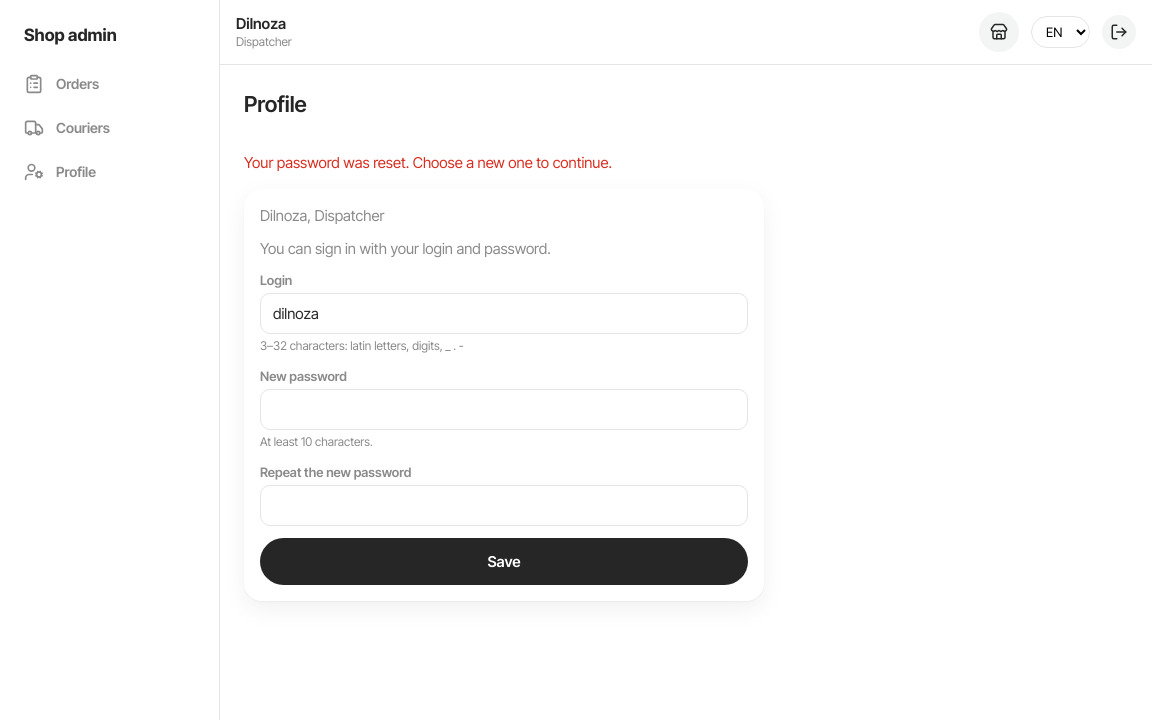
ProfileScreen › forces a new password after an owner reset and then opens the panel
This screenshot has width=1152, height=720.
Expected: the text "Your password was reset. Choose a new one to continue." is shown, [244,153,612,172]
Type "my new password" into the password field labelled "New password" at (504, 410), box [260,389,748,430]
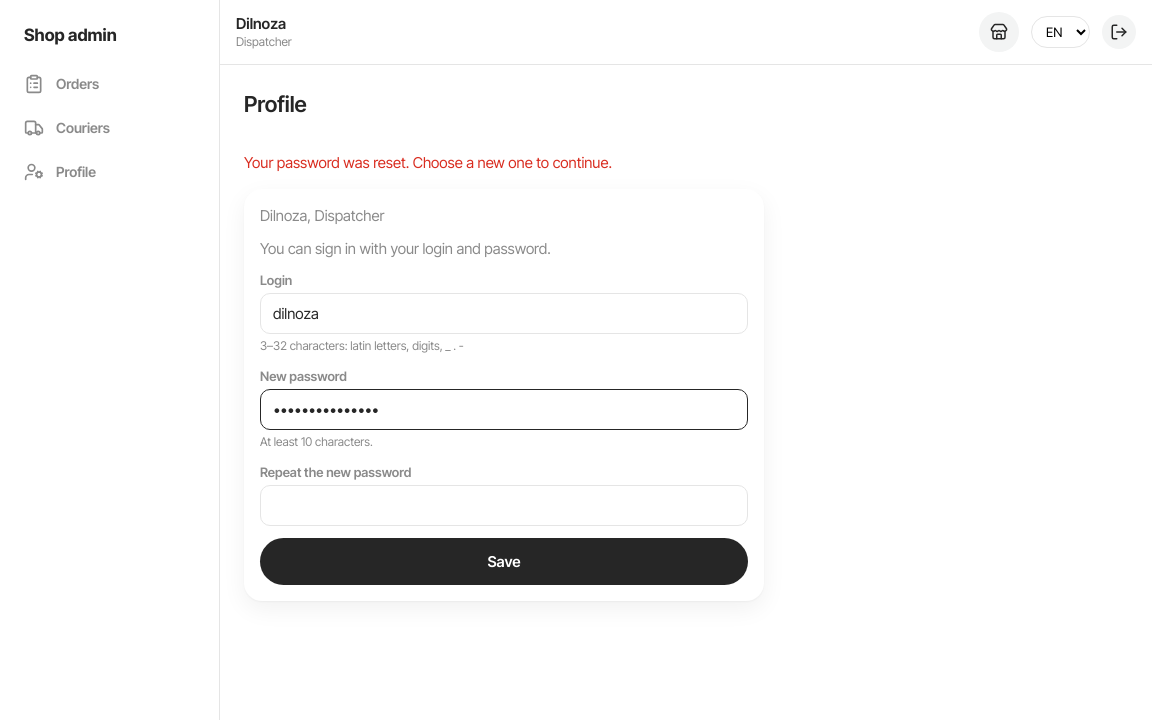
Type "my new password" into the password field labelled "Repeat the new password" at (504, 506), box [260,485,748,526]
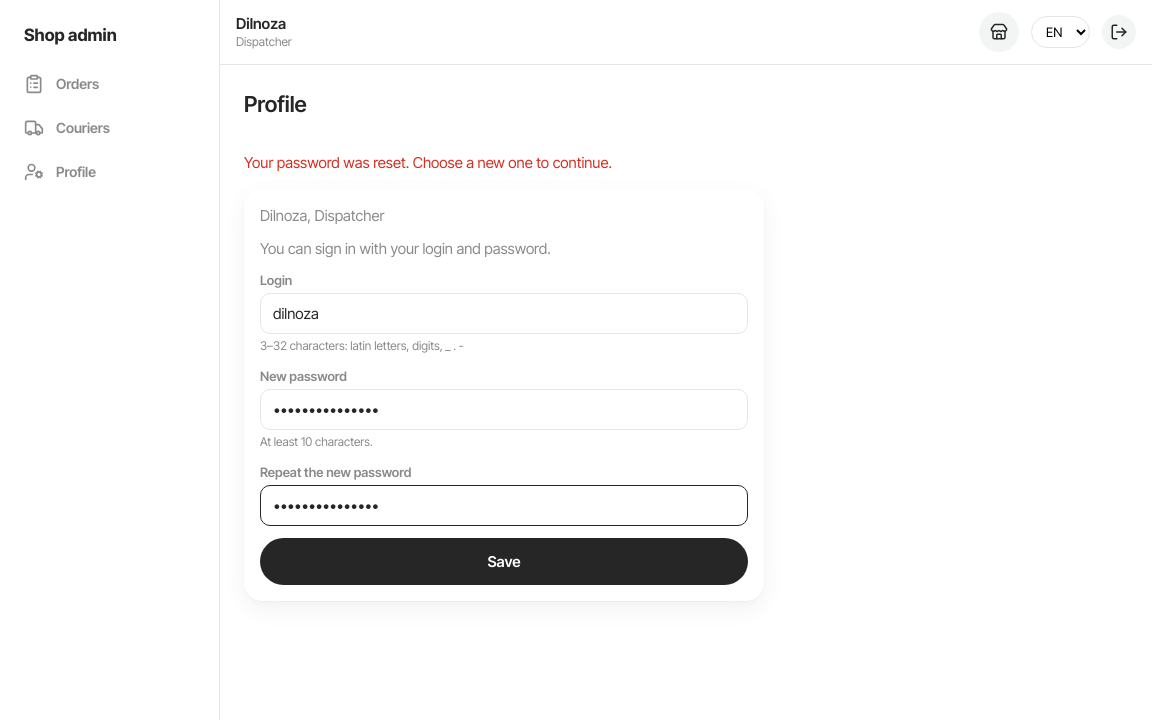
Click the button "Save" at (504, 562), box [260,538,748,585]
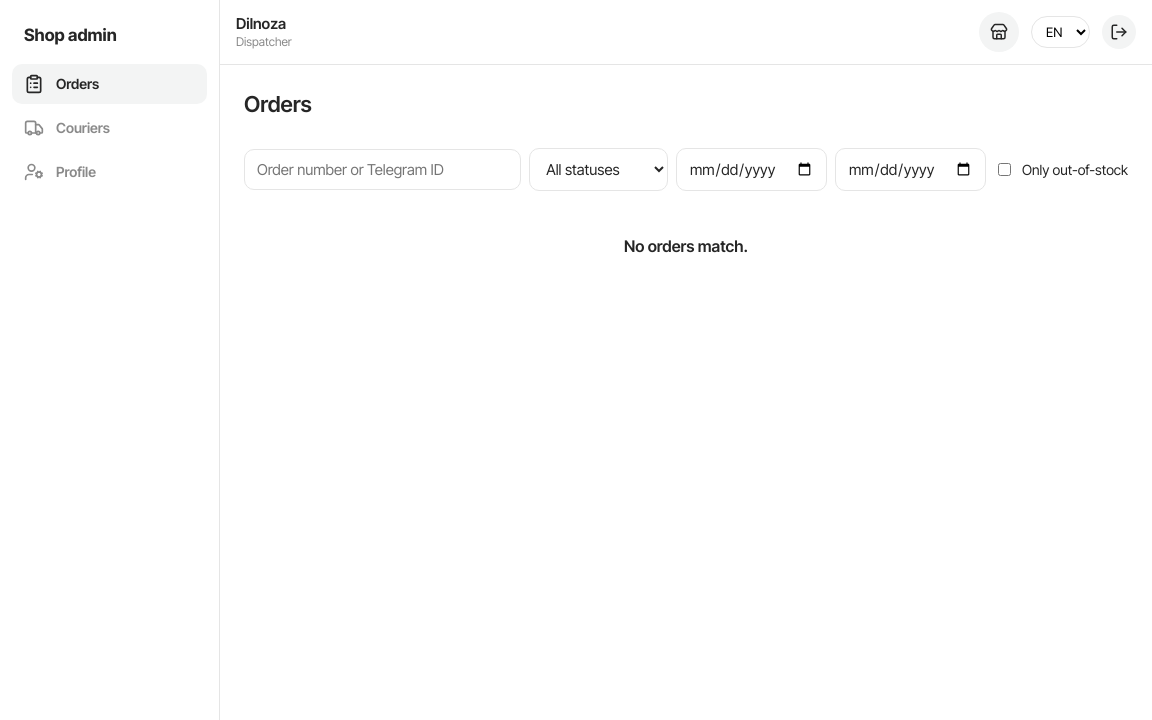
Now the heading "Orders" is shown, box [244,91,312,117]
